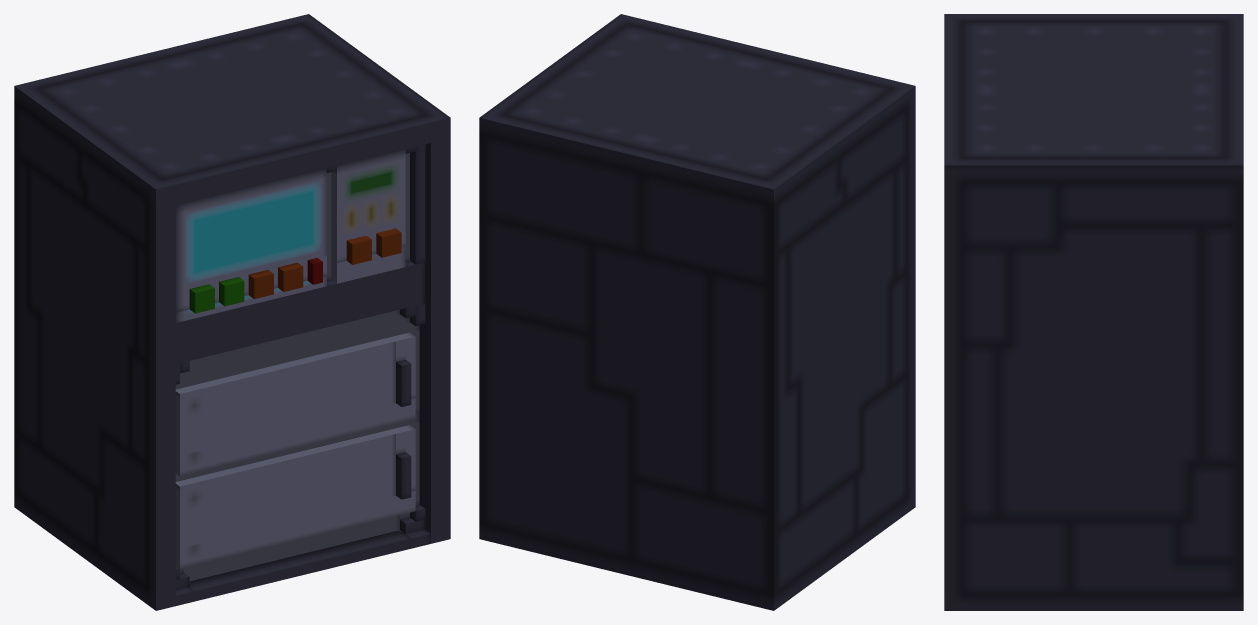
Rendered from URZADZENIE_DO_KANAU.dae.
3 renders of one model, left to right at view 1: azimuth 30°, elevation 25°; view 2: azimuth 150°, elevation 25°; view 3: azimuth 270°, elevation 25°, orthographic. The views are drawn at different scales.
Parts seen in each view (by area): view 1: Content; view 2: Content; view 3: Content.
Part boxes in pixels (x1=…): Content: x1=14, y1=14, x2=450, y2=610; Content: x1=479, y1=14, x2=915, y2=610; Content: x1=944, y1=14, x2=1243, y2=610.
Size of the model in its own units: 30 by 41 by 25.
1 material, 1 textured.
